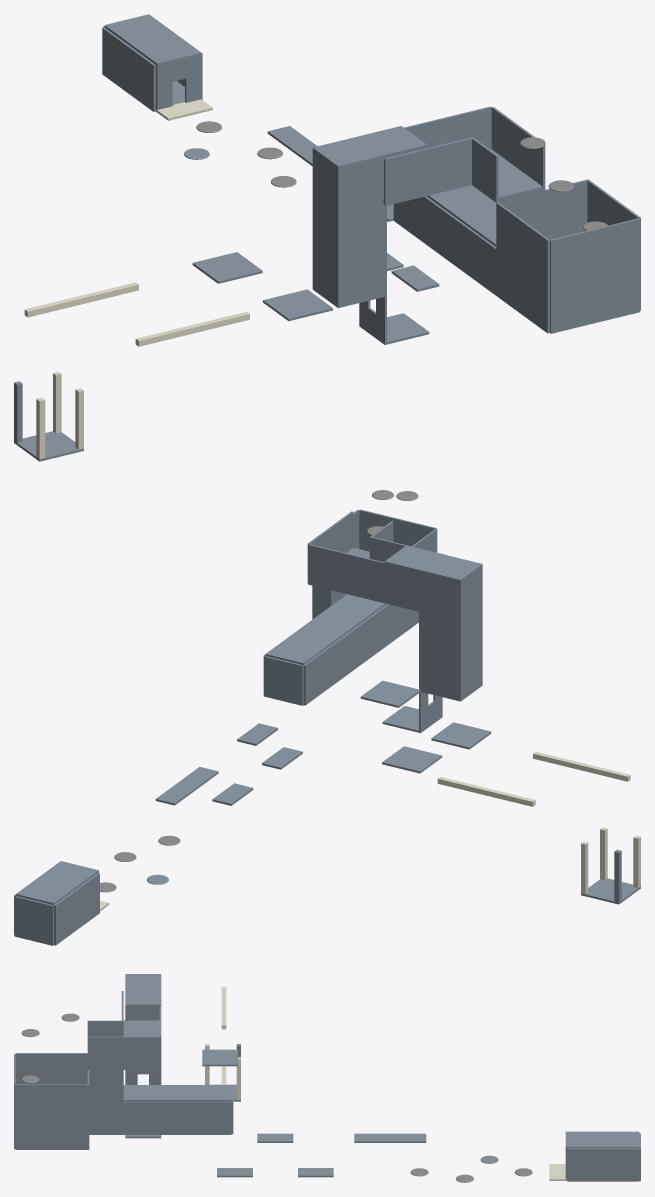
File: map.OBJ
The picture shows the model from 3 angles, top to bottom: view 1: azimuth 30°, elevation 25°; view 2: azimuth 150°, elevation 25°; view 3: azimuth 270°, elevation 25°; orthographic projection. The views are drawn at different scales.
Visible parts, largest first — view 1: Wall_400x428, Wall_400x427, Wall_400x436_66, Wall_400x421, Wall_400x448, Wall_400x445, Wall_400x420, Wall_400x442, Wall_400x439, Wall_400x424, Wall_Door_400x400_29, Wall_400x434 (+34 smaller); view 2: Wall_400x400_10, Wall_400x405, Wall_400x435, Wall_400x434, Wall_400x441, Wall_400x438, Wall_400x444, Wall_400x446_88, Wall_400x406, Wall_400x401_16, Floor_400x406, Floor_400x422 (+22 smaller); view 3: Wall_400x402_19, Wall_400x404, Wall_400x423, Wall_400x425, Wall_400x407, Wall_400x412, Wall_400x433, Wall_400x431, Wall_400x409, Wall_400x418, Wall_400x416, Wall_400x422 (+20 smaller).
Boxes of the visible parts, x1,y1,x2,y2 form: Wall_400x428: [550, 229, 595, 287]; Wall_400x427: [594, 218, 639, 276]; Wall_400x436_66: [427, 137, 471, 195]; Wall_400x421: [550, 276, 595, 333]; Wall_400x448: [384, 148, 429, 205]; Wall_400x445: [340, 250, 384, 307]; Wall_400x420: [595, 266, 639, 322]; Wall_400x442: [340, 204, 384, 260]; Wall_400x439: [340, 157, 384, 214]; Wall_400x424: [545, 179, 589, 237]; Wall_Door_400x400_29: [156, 52, 201, 109]; Wall_400x434: [446, 106, 491, 149]; Wall_400x400_10: [14, 896, 53, 945]; Wall_400x405: [264, 656, 303, 705]; Wall_400x435: [346, 553, 384, 603]; Wall_400x434: [308, 544, 346, 593]; Wall_400x441: [420, 612, 458, 661]; Wall_400x438: [420, 572, 458, 621]; Wall_400x444: [420, 652, 458, 700]; Wall_400x446_88: [384, 563, 420, 611]; Wall_400x406: [303, 649, 327, 705]; Wall_400x401_16: [54, 889, 77, 945]; Floor_400x406: [265, 638, 325, 665]; Floor_400x422: [360, 680, 420, 707]; Wall_400x402_19: [603, 1148, 639, 1181]; Wall_400x404: [567, 1148, 603, 1181]; Wall_400x423: [51, 1084, 87, 1117]; Wall_400x425: [15, 1084, 51, 1117]; Wall_400x407: [195, 1101, 231, 1134]; Wall_400x412: [123, 1101, 159, 1134]; Wall_400x433: [123, 1036, 159, 1069]; Wall_400x431: [87, 1036, 123, 1069]; Wall_400x409: [159, 1101, 195, 1134]; Wall_400x418: [15, 1117, 51, 1149]; Wall_400x416: [51, 1117, 87, 1149]; Wall_400x422: [51, 1053, 87, 1084].
Bounding box in the file's own units: 4194 × 2517 × 6980.
